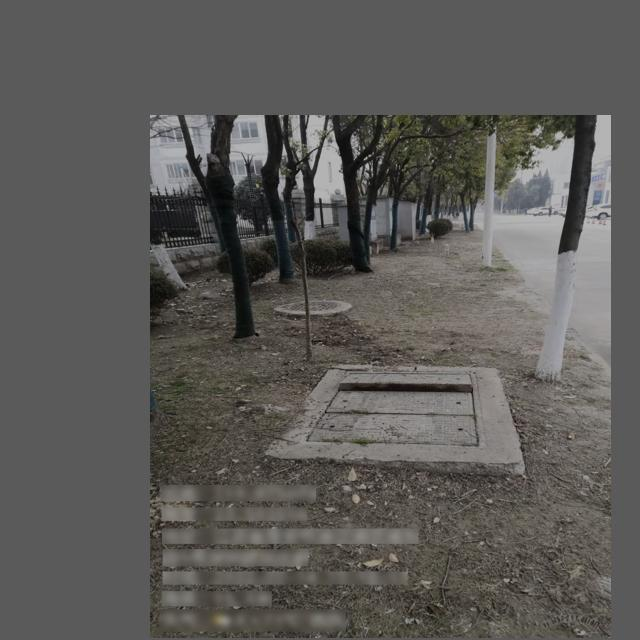good: (272, 301, 343, 316)
uncovered: (298, 368, 486, 450)
